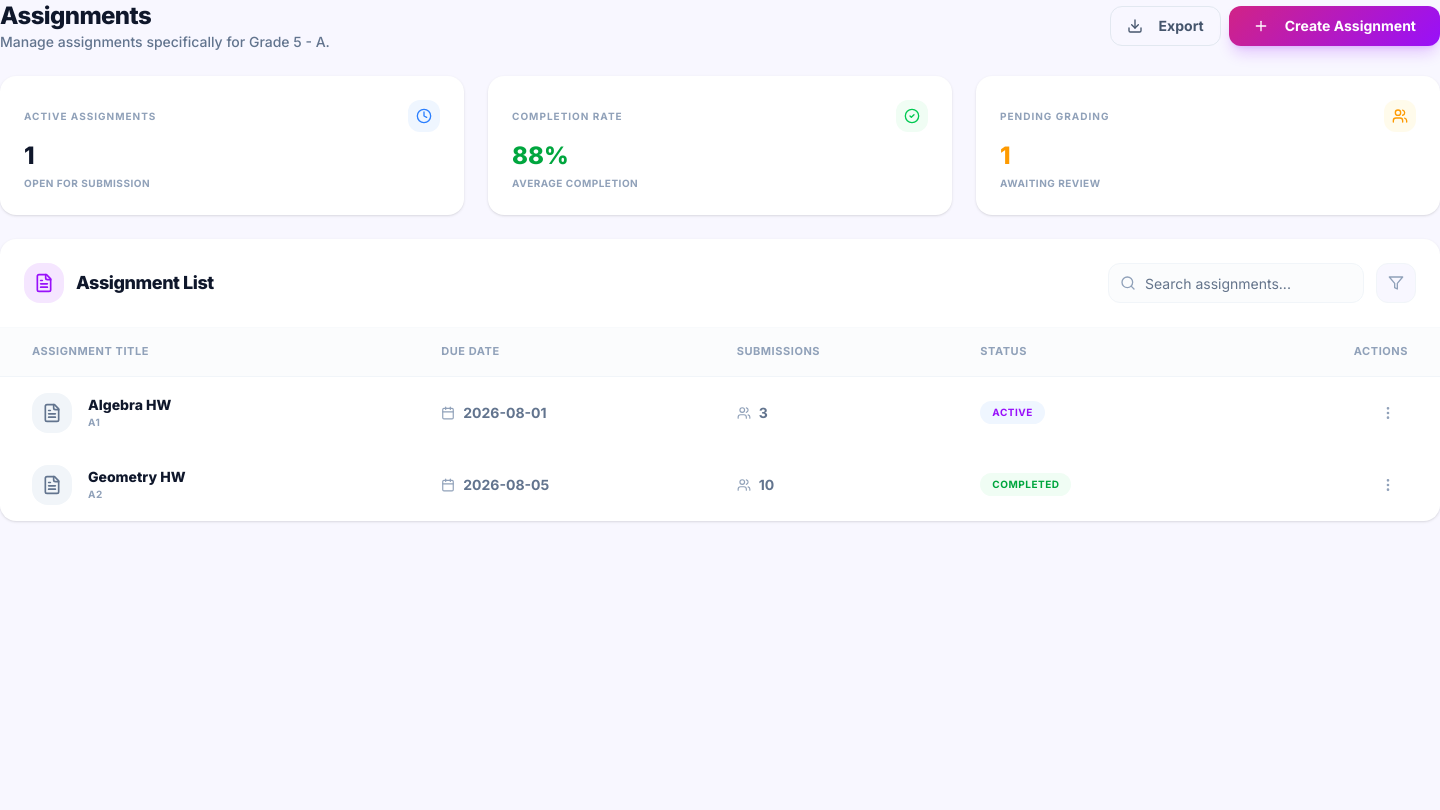
Test: ClassAssignmentsTab › opens the Edit Assignment dialog for the selected assignment
This screenshot has width=1440, height=810.
Click the button without text in the row of "Algebra HW": (1388, 412) [1368,392,1408,432]
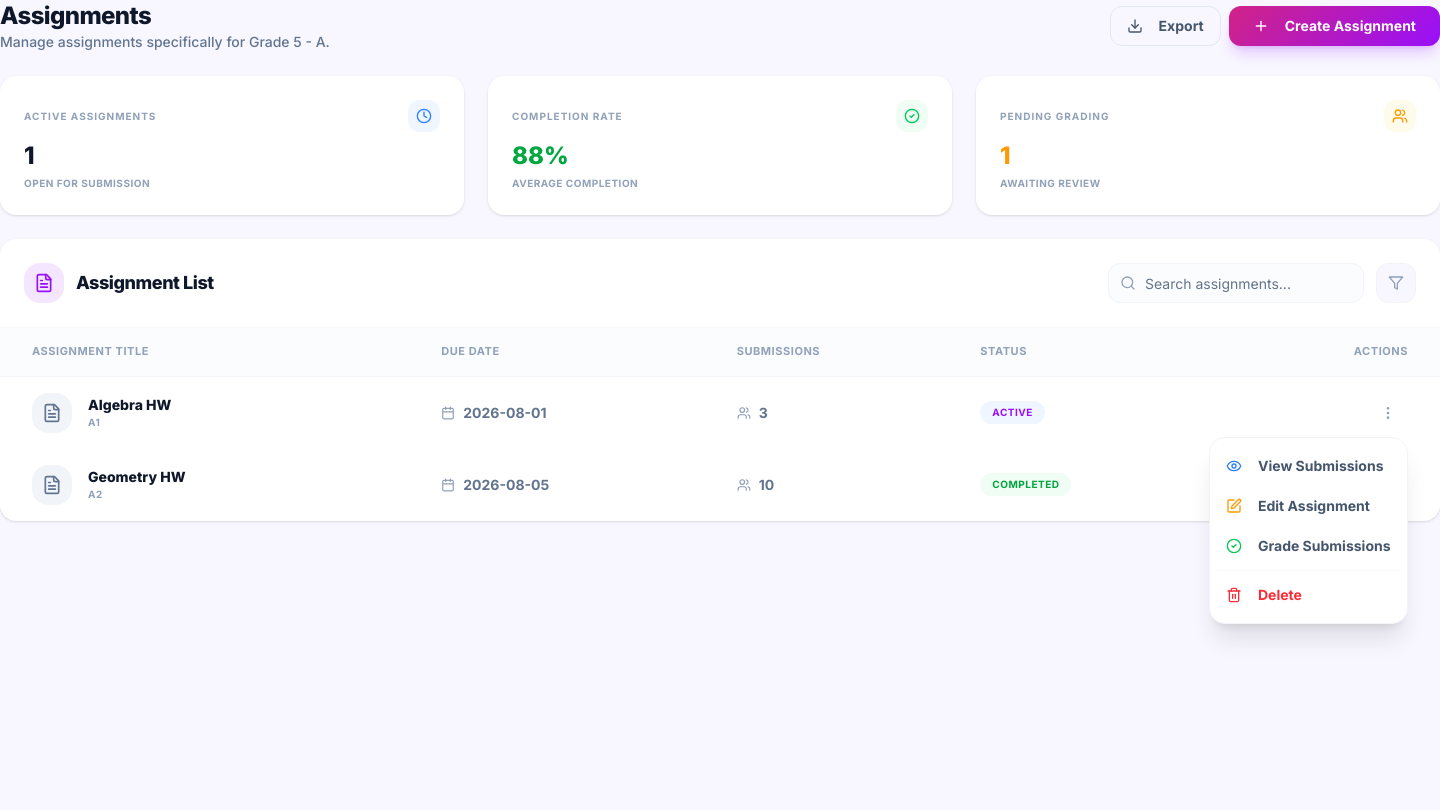
Click the menu item "Edit Assignment": (1298, 506) [1226,497,1370,514]
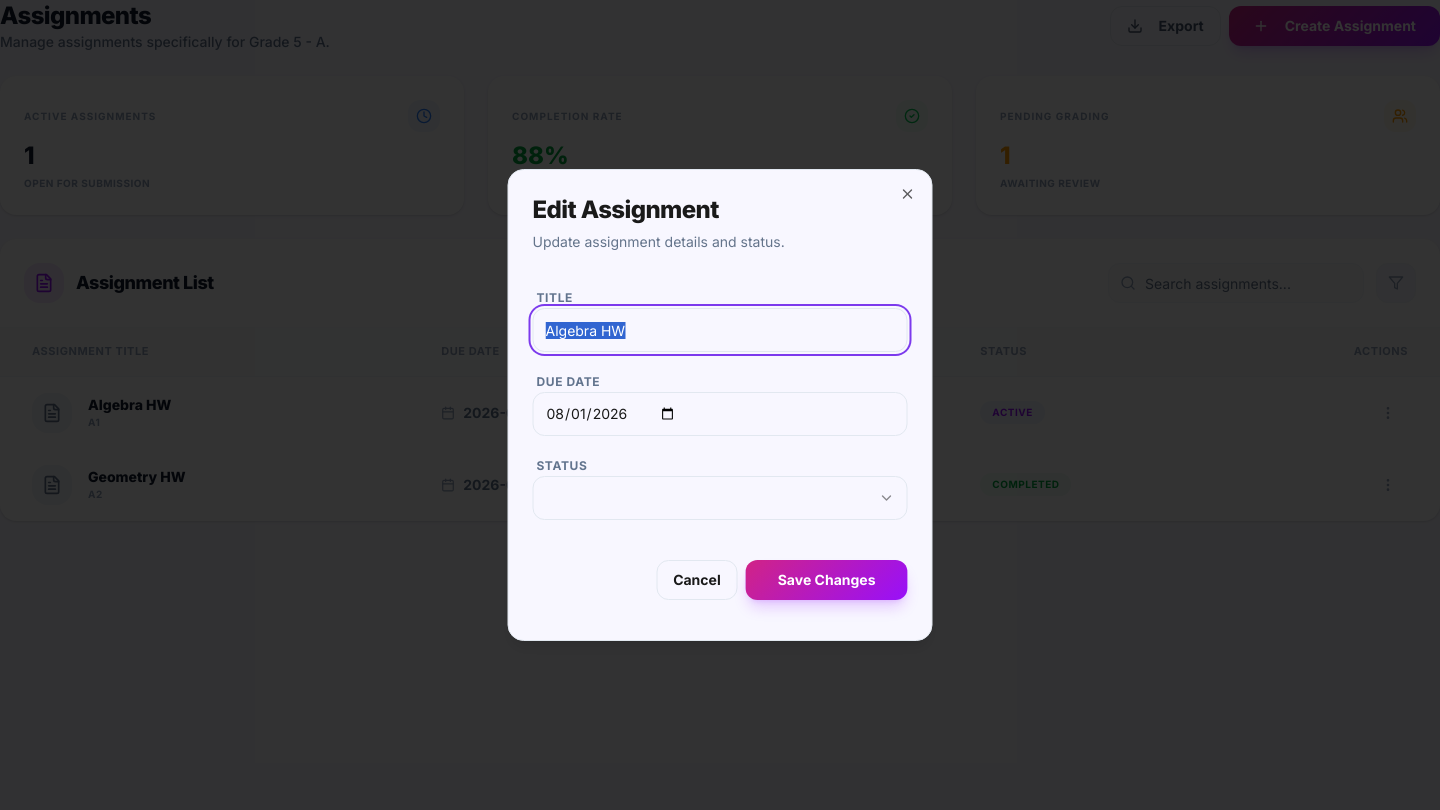
expect the heading "Edit Assignment" is shown: met, box [532,195,719,224]
expect the field showing "Algebra HW" is shown: met, box [532,308,908,352]
